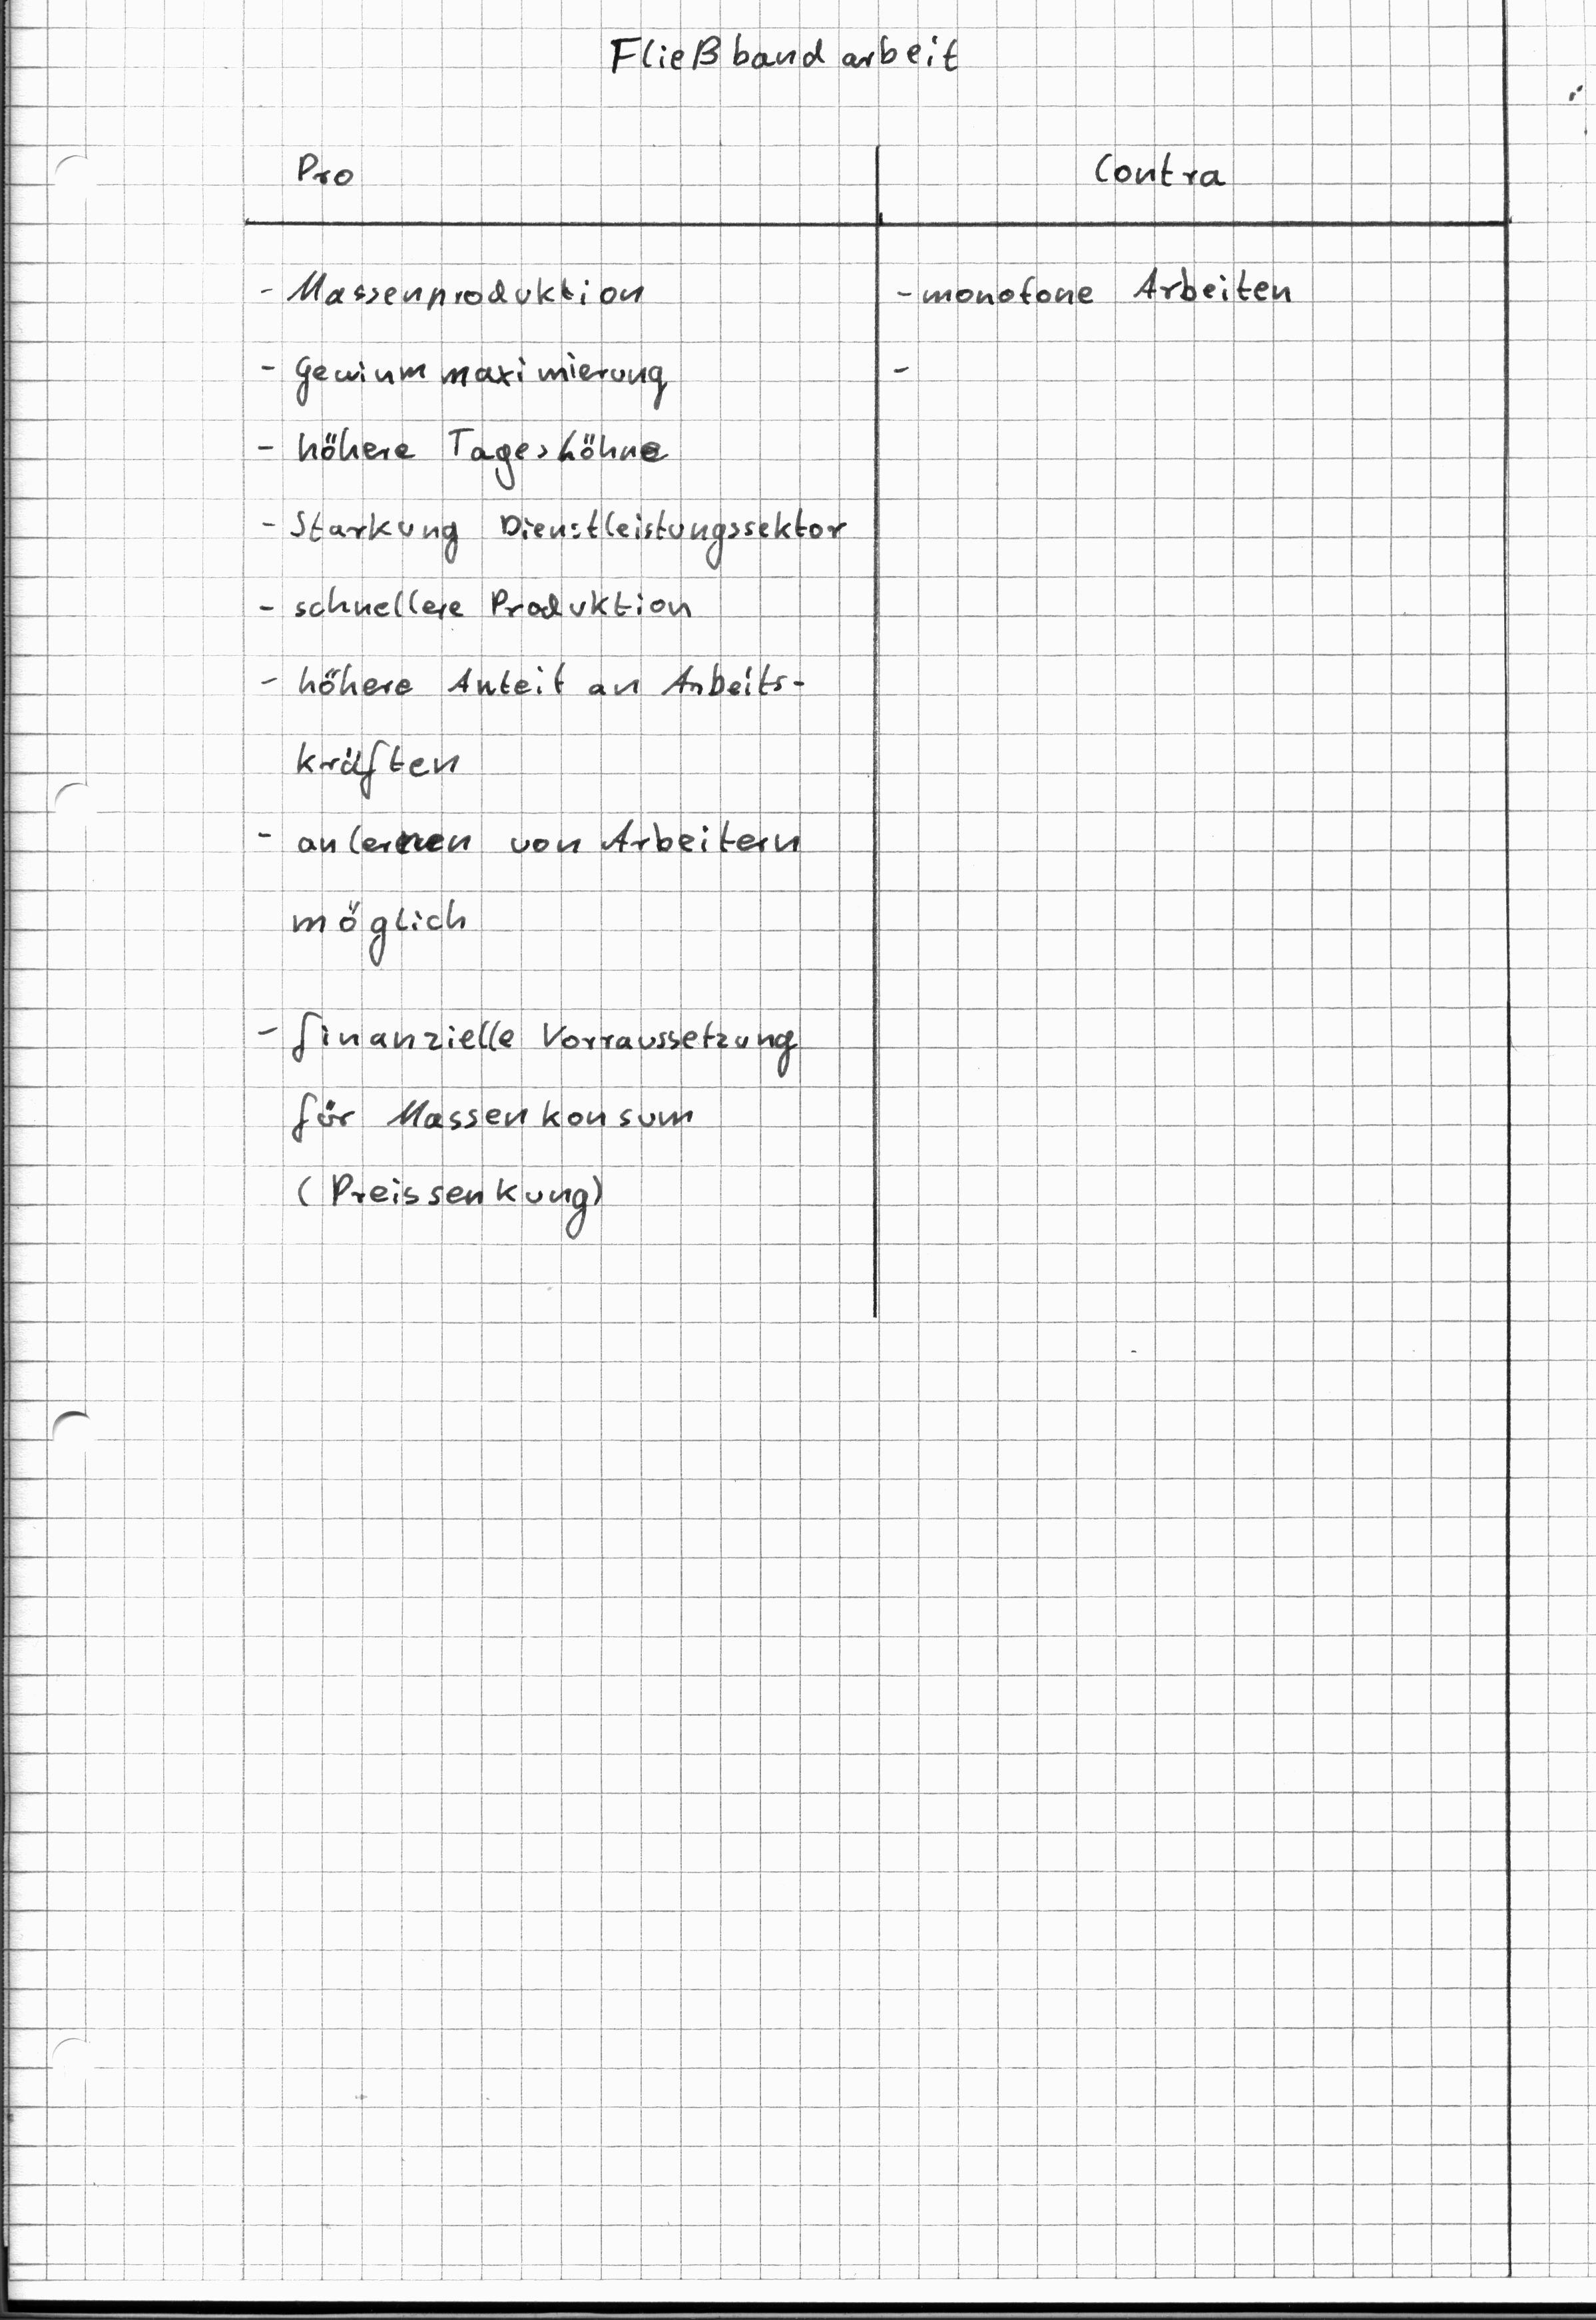word: (244, 651, 814, 975), (246, 1001, 806, 1260), (248, 263, 680, 500), (253, 500, 856, 630), (579, 10, 978, 102), (915, 256, 1302, 318), (1069, 135, 1251, 206), (283, 134, 392, 200)
